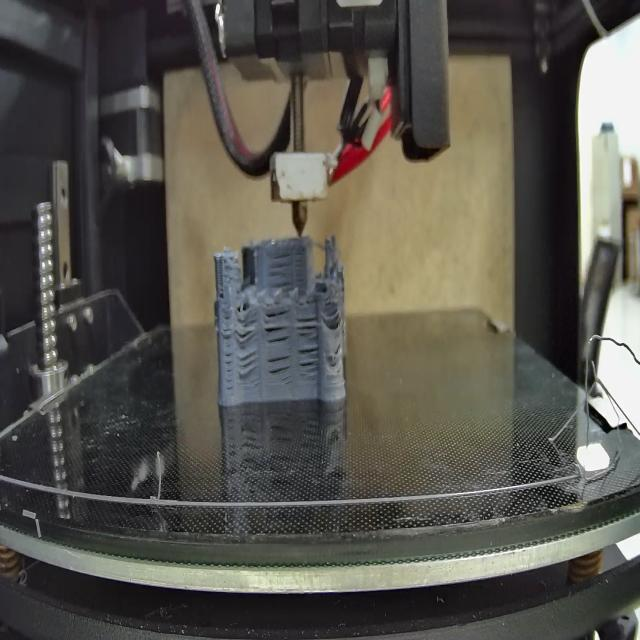cracks: (296, 313, 319, 380), (262, 303, 294, 344), (267, 247, 295, 289), (264, 351, 292, 386), (222, 316, 233, 396), (235, 316, 257, 345), (238, 351, 258, 377), (326, 302, 343, 330), (333, 341, 343, 358), (218, 284, 224, 300)
